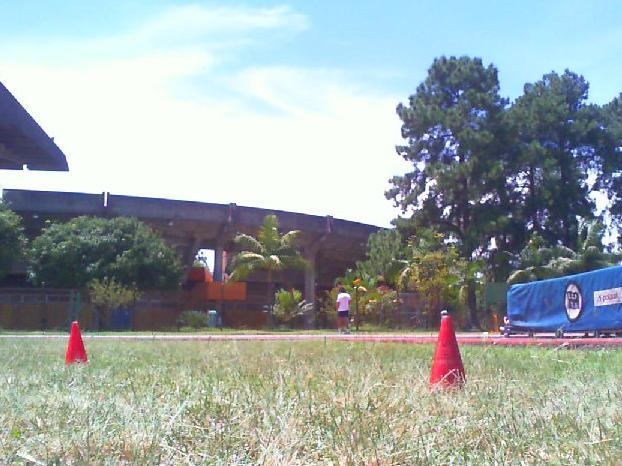0 cone: (430, 316, 465, 384), (65, 321, 87, 366)
